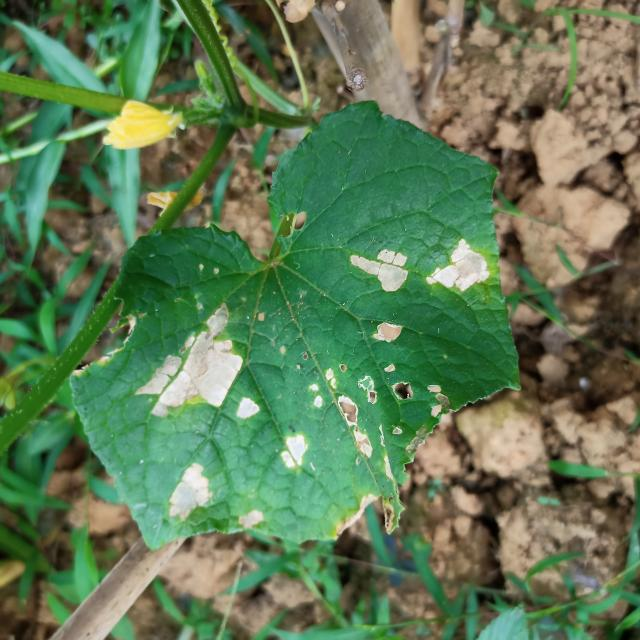disease_cucumber: (132, 299, 308, 535), (314, 314, 438, 473), (332, 227, 496, 310)
